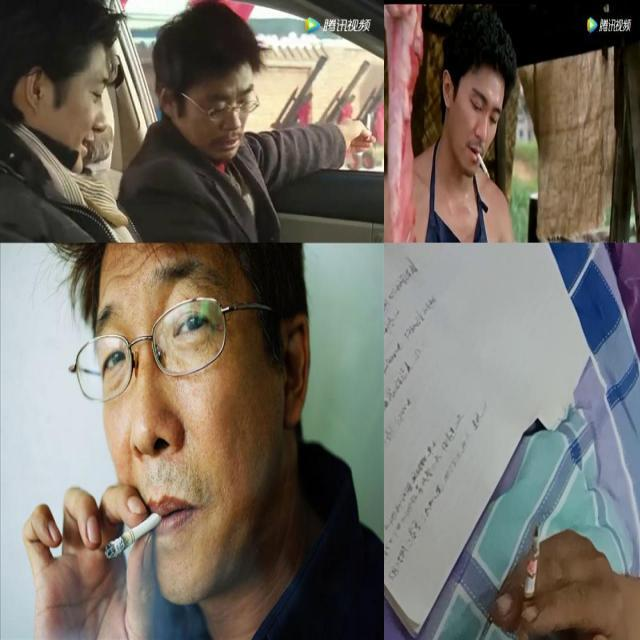cigarette: (103, 506, 172, 562), (517, 524, 541, 640), (476, 151, 490, 181), (365, 112, 373, 142)
